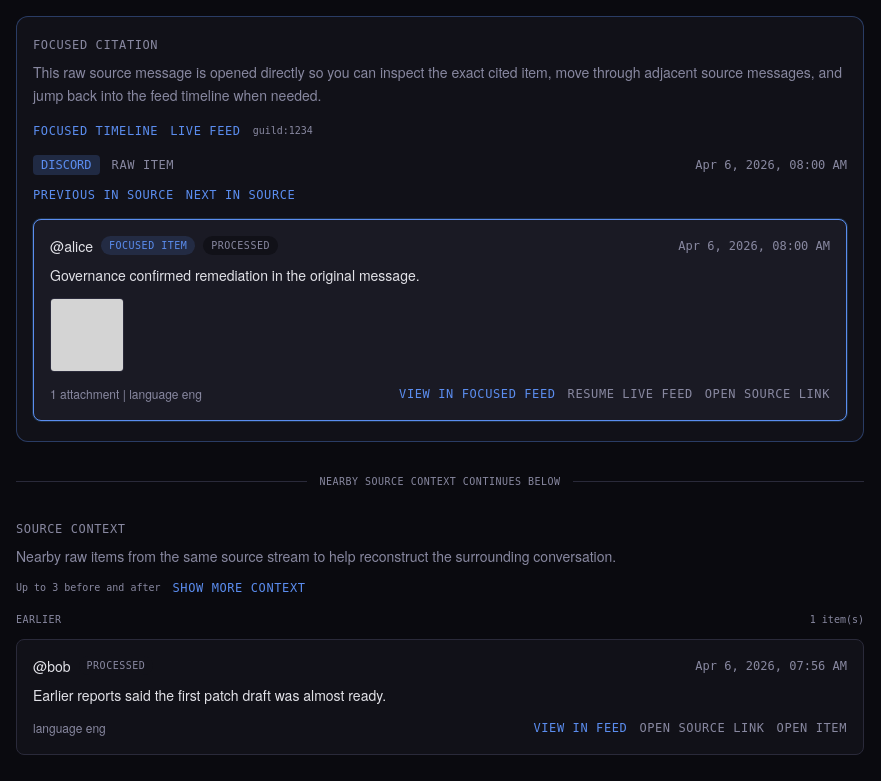
Test: ItemView › renders raw item content, metadata, attachments, and expandable source context
expect the text "Governance confirmed remediation in the original message." is shown: met, box left=50, top=264, right=420, bottom=284
expect the heading "Focused Citation" is shown: met, box left=33, top=38, right=158, bottom=52
Step 1. Click the button "Show more context" → x=239, y=588, box left=172, top=580, right=306, bottom=596
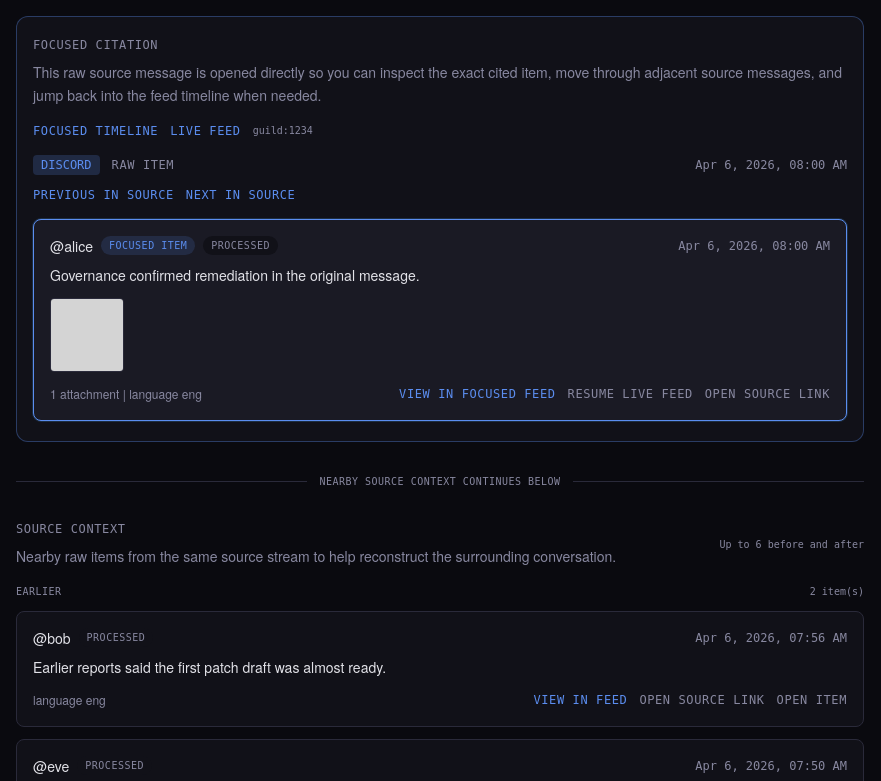
expect the text "Up to 6 before and after" is shown: met, box left=720, top=537, right=864, bottom=552
expect the button "Show more context" is gone: met
